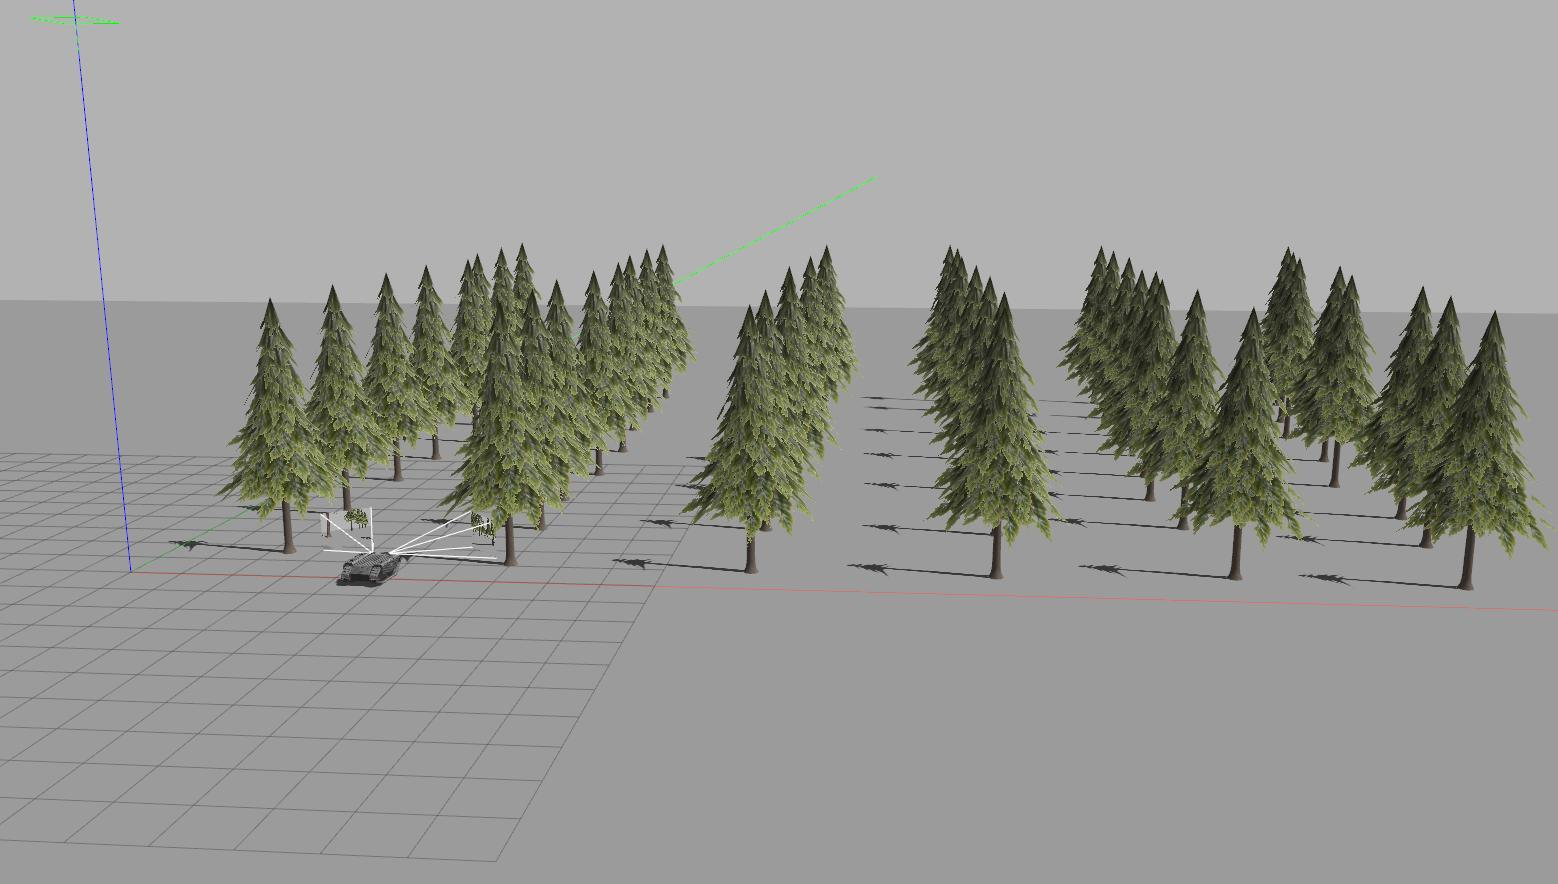tree_gazebo: (444, 253, 566, 564), (1409, 314, 1546, 585), (1183, 310, 1302, 580), (219, 301, 335, 552), (1135, 292, 1220, 528), (1294, 268, 1375, 486), (307, 286, 386, 509), (365, 277, 436, 479), (578, 274, 639, 473), (578, 274, 639, 441), (414, 268, 469, 425)
